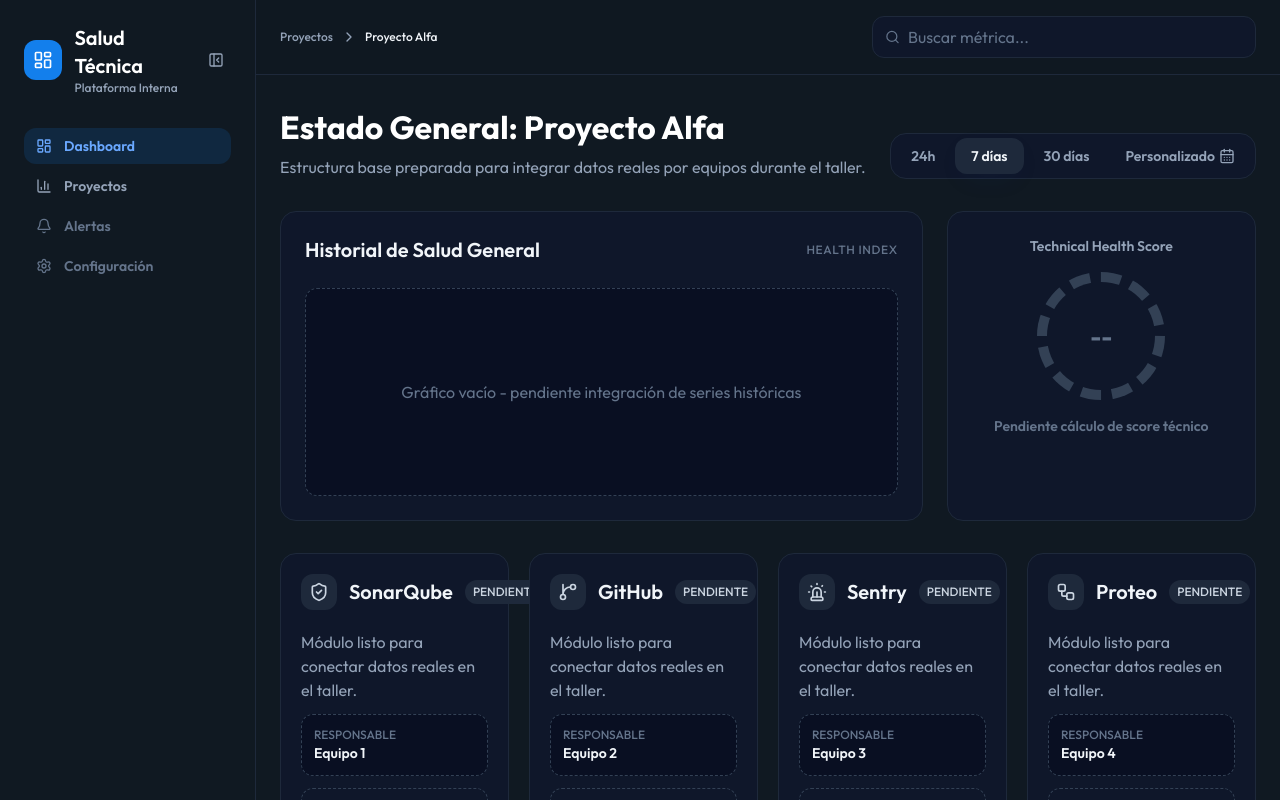
Test: TechnicalHealthDashboardLayout › renders empty integration-ready sections and collapsible sidebar
expect the navigation bar named "Navegación principal" is shown: met, box left=24, top=128, right=231, bottom=284
expect the field labelled "Buscar métrica" is shown: met, box left=908, top=25, right=1243, bottom=49
Click the button named "Colapsar sidebar".
click(216, 60)  # box left=200, top=44, right=231, bottom=76
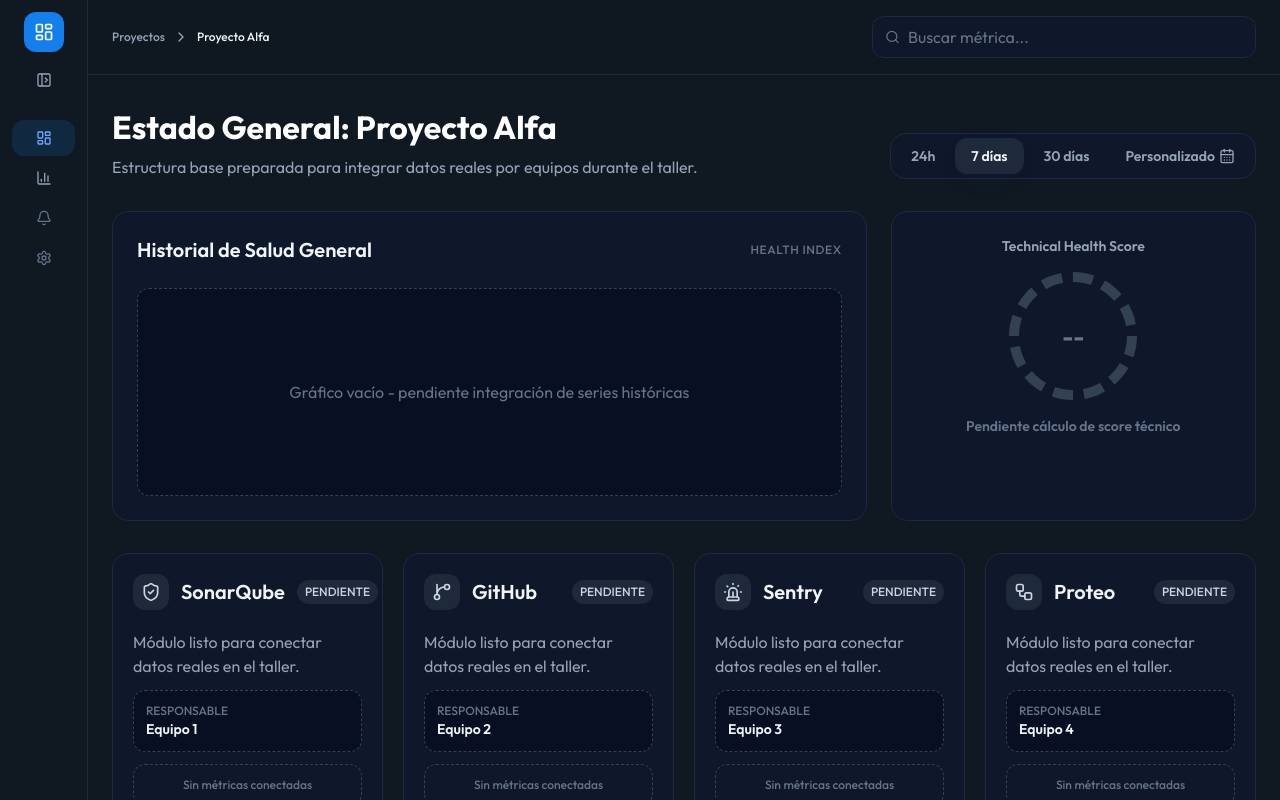
expect the button named "Expandir sidebar" is shown: met, box left=28, top=64, right=60, bottom=96
